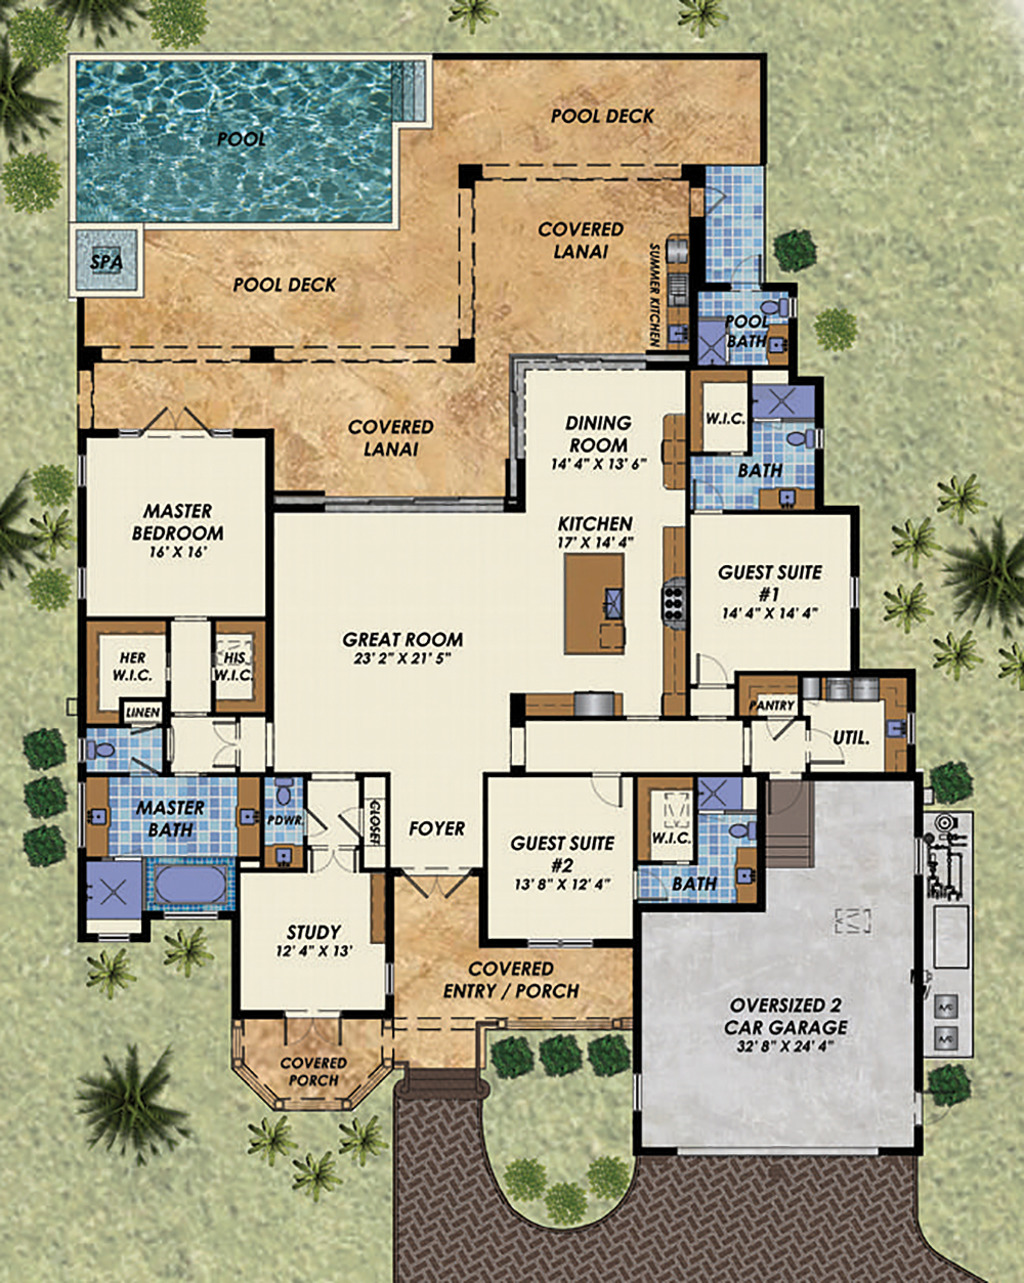door: (134, 402, 230, 442), (684, 641, 736, 706), (804, 720, 858, 772), (302, 844, 366, 882), (728, 244, 774, 294), (682, 180, 734, 224), (582, 766, 624, 818), (757, 770, 800, 818), (210, 718, 250, 770), (298, 798, 332, 840), (334, 800, 368, 838)
large_sink: (776, 422, 830, 468), (66, 728, 126, 768), (750, 288, 794, 320), (724, 816, 766, 848)
small_sink: (722, 856, 772, 908), (580, 586, 628, 632), (658, 310, 700, 361), (64, 798, 114, 840), (880, 708, 928, 748), (764, 324, 792, 370), (772, 476, 800, 516)
tub: (142, 856, 236, 916)
window: (512, 924, 598, 958), (68, 446, 94, 492)
